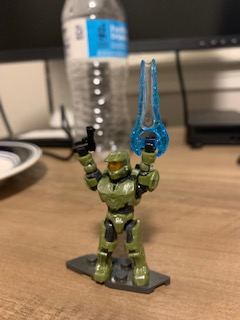chief: (74, 140, 161, 287)
pistol: (72, 125, 98, 155)
spartan: (72, 138, 159, 285)
up: (70, 136, 160, 209)
